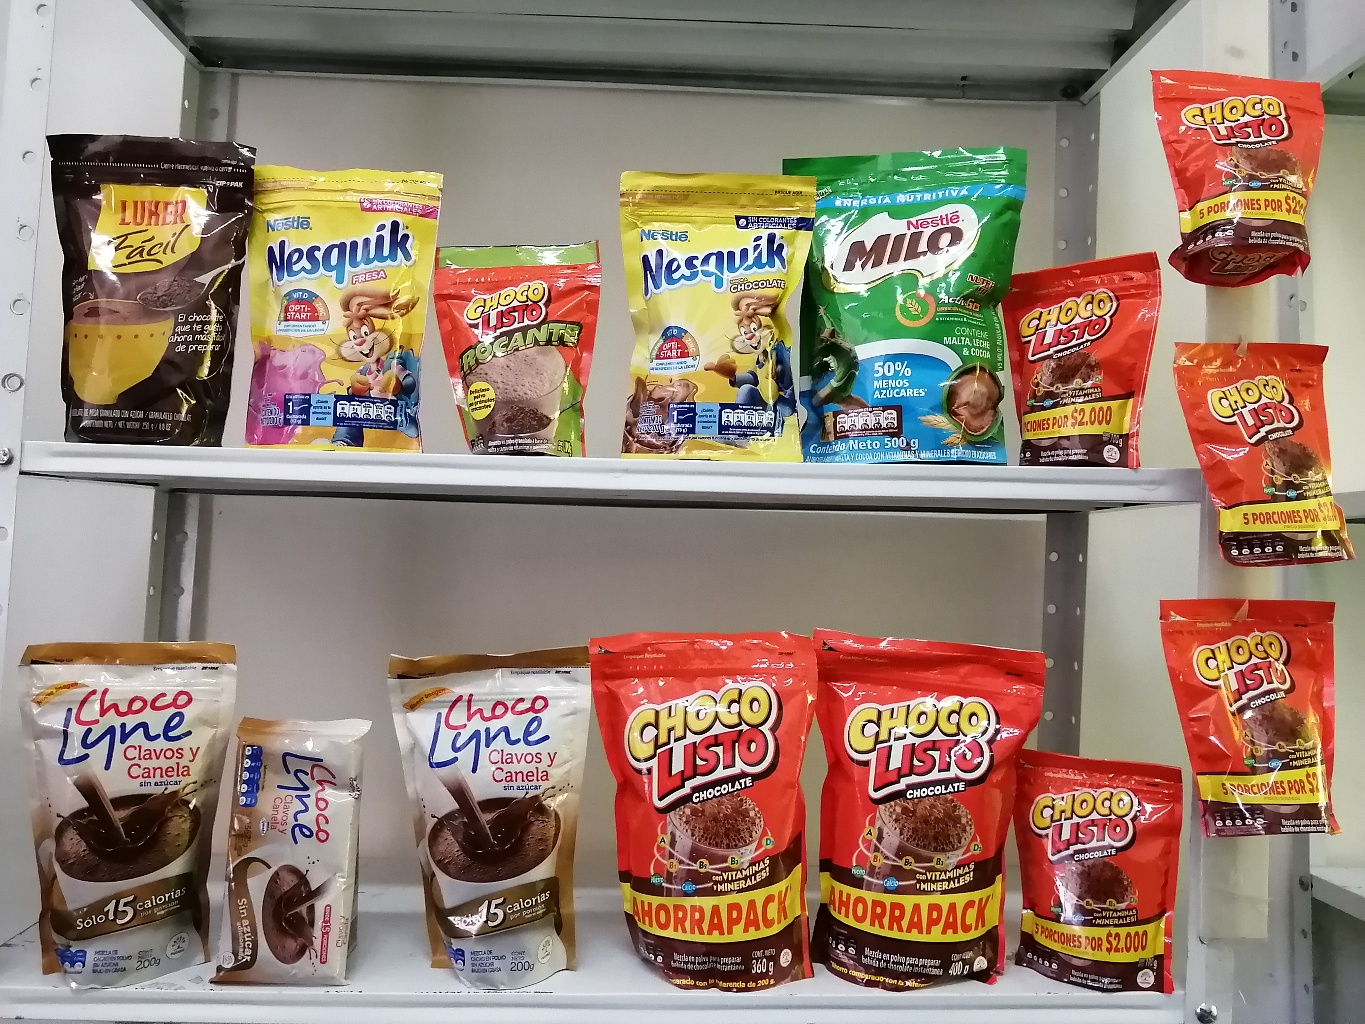COL0170102DYP10000: (430, 223, 595, 454)
COL0170103DYP10000: (1144, 58, 1328, 274)
COL0170103DYP36000: (593, 618, 838, 999)
COL0170103DYP40000: (801, 603, 1048, 991)
COL0170205DYP50000: (781, 142, 1034, 463)
COL0170303DYP20000: (623, 162, 817, 468)
COL0170305DYP20000: (252, 154, 444, 450)
